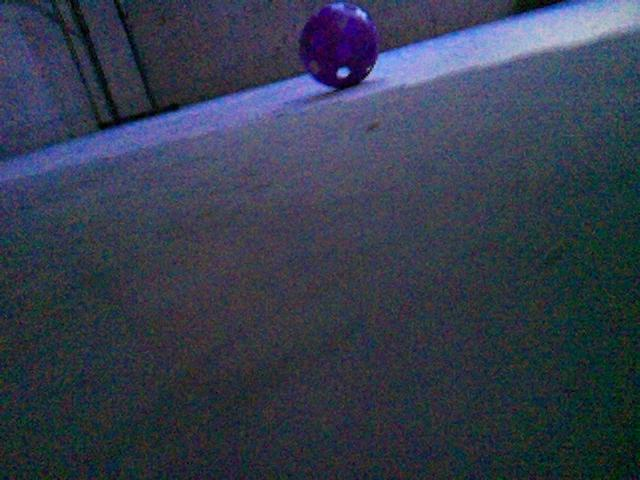Purple: (298, 1, 378, 89)
